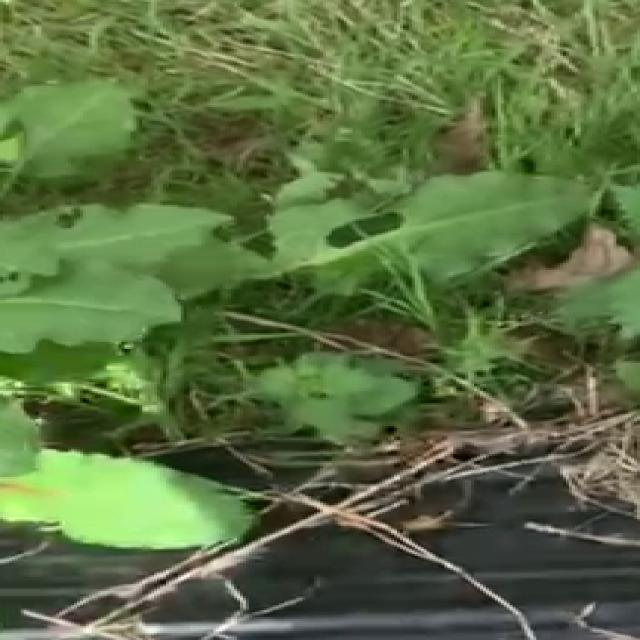organic waste: (0, 76, 640, 578)
